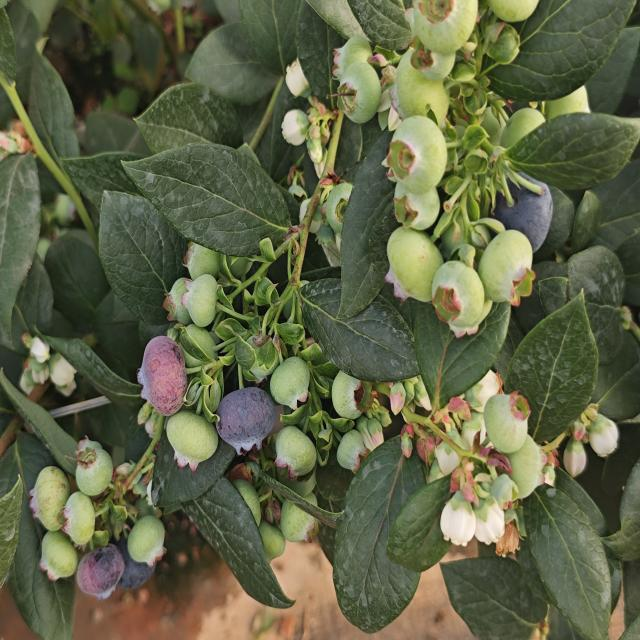ripe: (486, 168, 566, 257), (210, 383, 279, 455), (74, 544, 127, 601), (115, 543, 160, 600)
